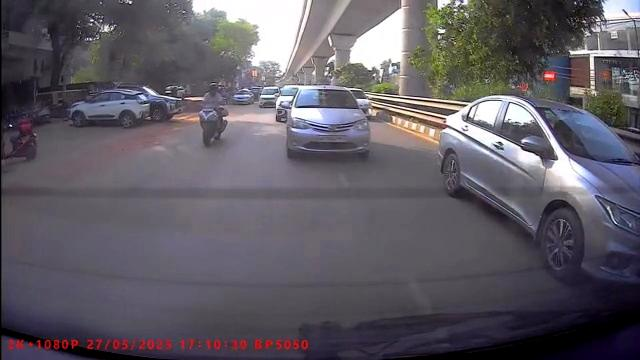motorcycle_with_helmet: (196, 81, 228, 146)
